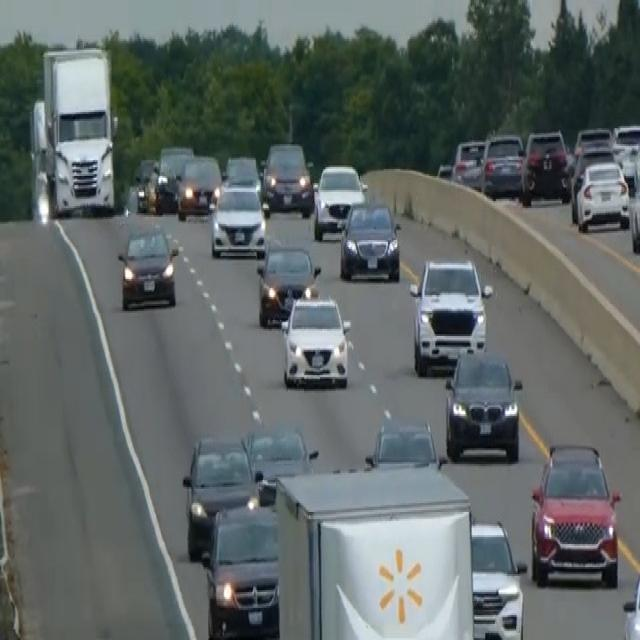car: (529, 439, 621, 589), (200, 496, 280, 638), (408, 254, 492, 375), (181, 432, 260, 558), (443, 345, 523, 462), (279, 288, 351, 389), (469, 518, 527, 638), (244, 425, 318, 503), (255, 240, 320, 327), (117, 222, 179, 310), (339, 197, 401, 281), (209, 182, 266, 260), (364, 414, 442, 471), (312, 162, 367, 240), (571, 158, 629, 231), (262, 141, 313, 215), (521, 126, 570, 203), (480, 130, 525, 199), (176, 153, 222, 219), (148, 144, 193, 210), (145, 160, 179, 213), (450, 137, 485, 188), (222, 153, 261, 194), (131, 156, 157, 212), (622, 553, 639, 638), (157, 144, 193, 183), (573, 125, 613, 156), (612, 121, 639, 160), (628, 174, 639, 254)
lorry: (29, 41, 119, 222)
